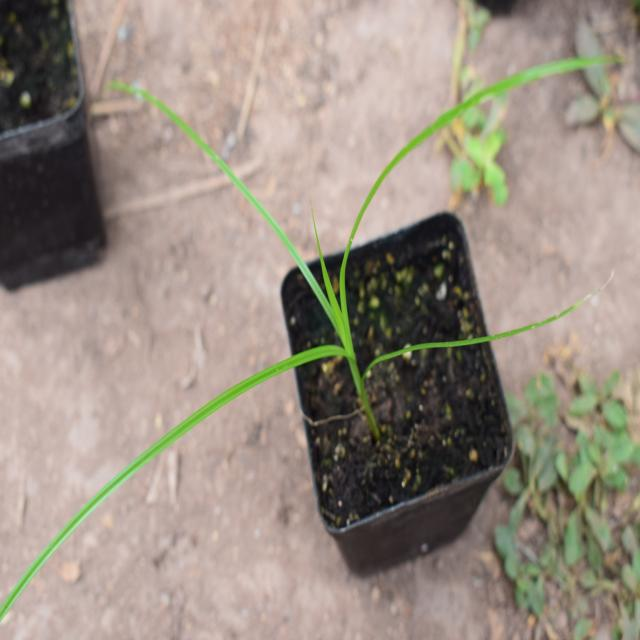sedge: (19, 75, 516, 537)
